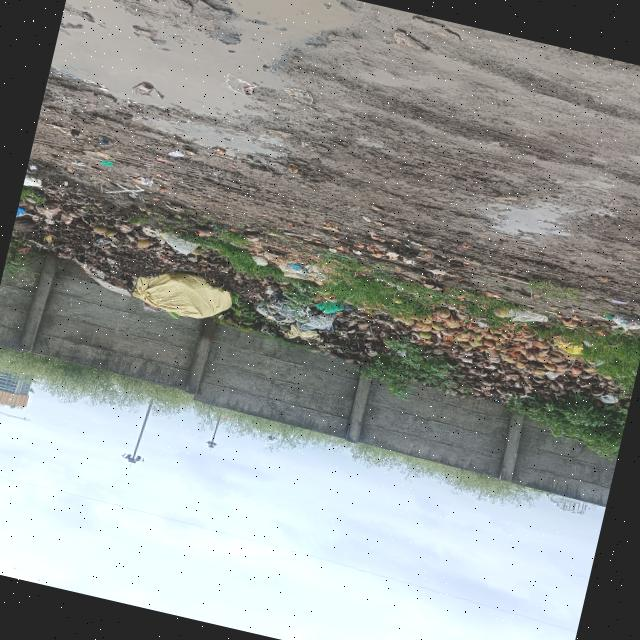garbage: (15, 180, 640, 423)
